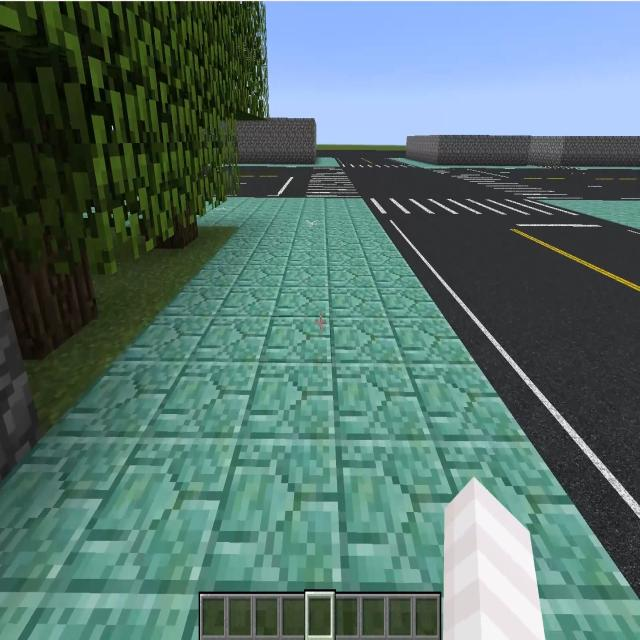crosswalk: (389, 198, 578, 216), (452, 170, 566, 197), (306, 168, 358, 197), (338, 160, 415, 168)
road: (385, 218, 638, 578), (345, 168, 516, 197), (481, 169, 640, 199), (241, 168, 312, 193)
sidewalk: (0, 198, 640, 639), (539, 199, 640, 231), (239, 156, 340, 168), (392, 158, 502, 168)
